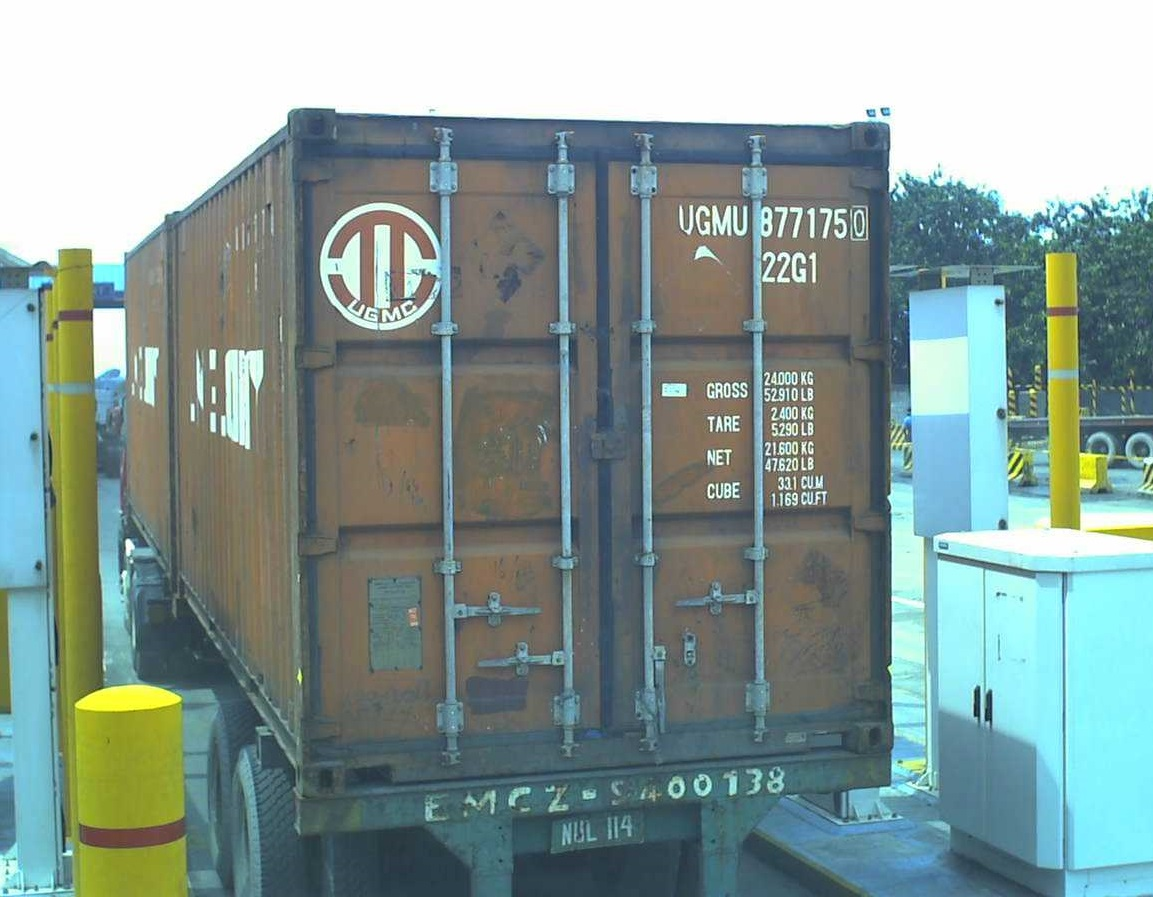container_door: (286, 104, 895, 803)
